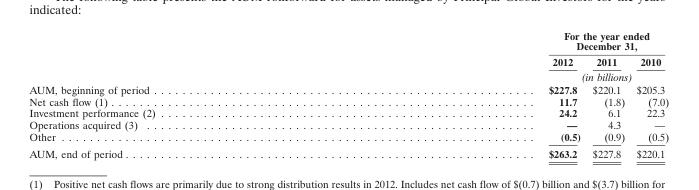table: (28, 29, 668, 159)
table column: (28, 29, 351, 159), (351, 29, 586, 159), (586, 29, 630, 159), (630, 29, 668, 159)
table column header: (28, 29, 668, 83)
table row: (28, 29, 668, 53), (28, 53, 668, 68), (28, 68, 668, 83), (28, 144, 668, 159), (28, 130, 668, 144), (28, 83, 668, 95), (28, 95, 668, 107), (28, 118, 668, 130), (28, 107, 668, 118)
table spanning cell: (351, 29, 668, 53), (351, 68, 668, 83)
